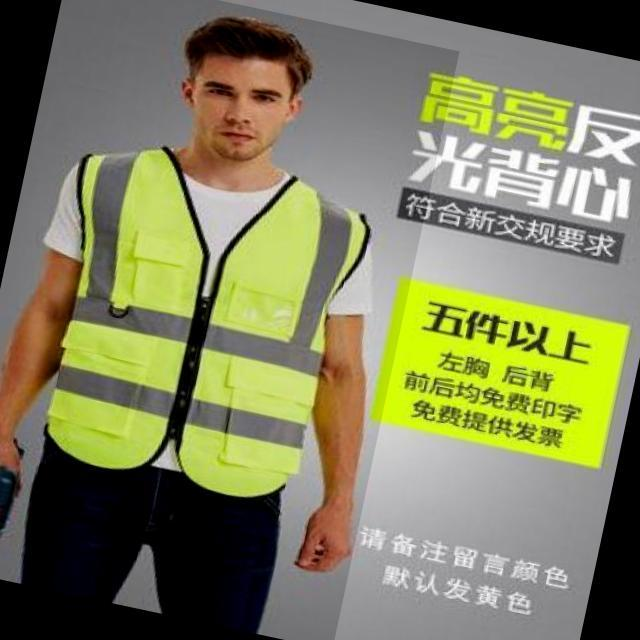Person: (2, 3, 399, 640)
Safety Vest: (2, 116, 380, 516)
bare-arms: (303, 492, 355, 579)
no-helmet: (178, 18, 318, 79)
